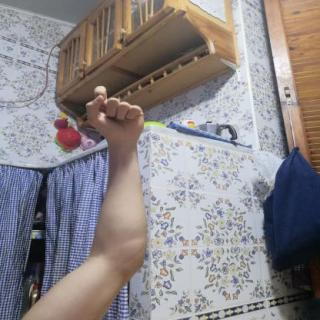FAA: (79, 80, 153, 152)
